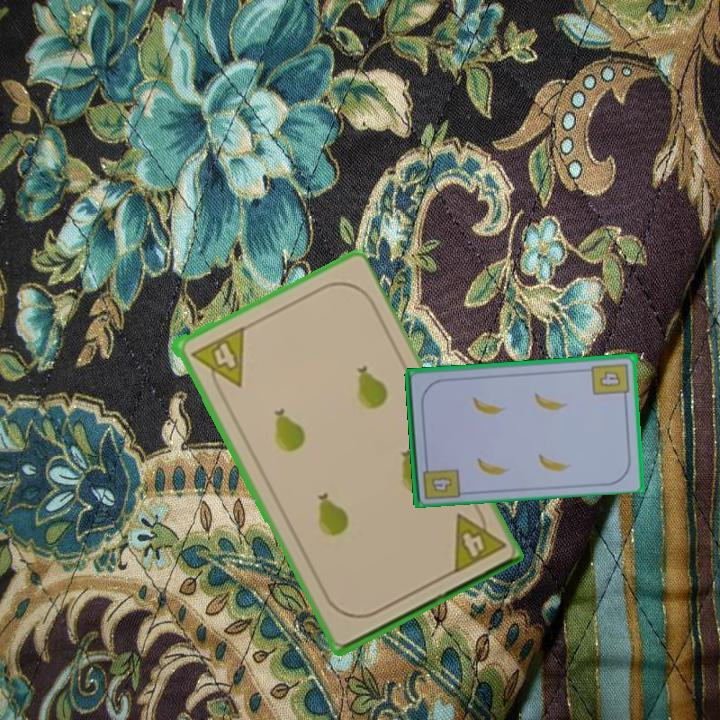4b: (589, 360, 632, 402), (428, 473, 456, 495)
4p: (448, 500, 508, 576), (186, 324, 247, 398)
